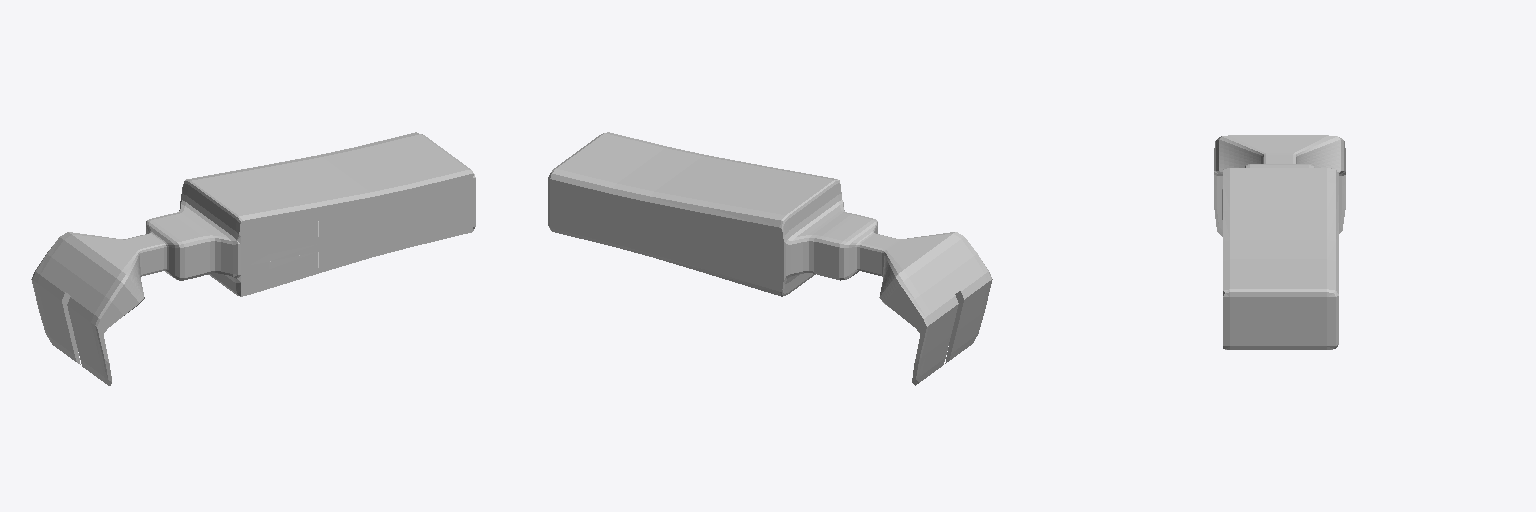
The model's file is Brazo-Izquierdo-Frente.obj.
3 views of the same model, side by side, from view 1: azimuth 30°, elevation 25°; view 2: azimuth 150°, elevation 25°; view 3: azimuth 270°, elevation 25° (orthographic).
Parts seen in each view (by area): view 1: Wall-E.001; view 2: Wall-E.001; view 3: Wall-E.001.
Part boxes in pixels (bbox=[...]): Wall-E.001: bbox=[31, 132, 475, 385]; Wall-E.001: bbox=[548, 132, 992, 385]; Wall-E.001: bbox=[1214, 135, 1345, 349].
Bounding box in the file's own units: 11.32 × 3.83 × 3.34.